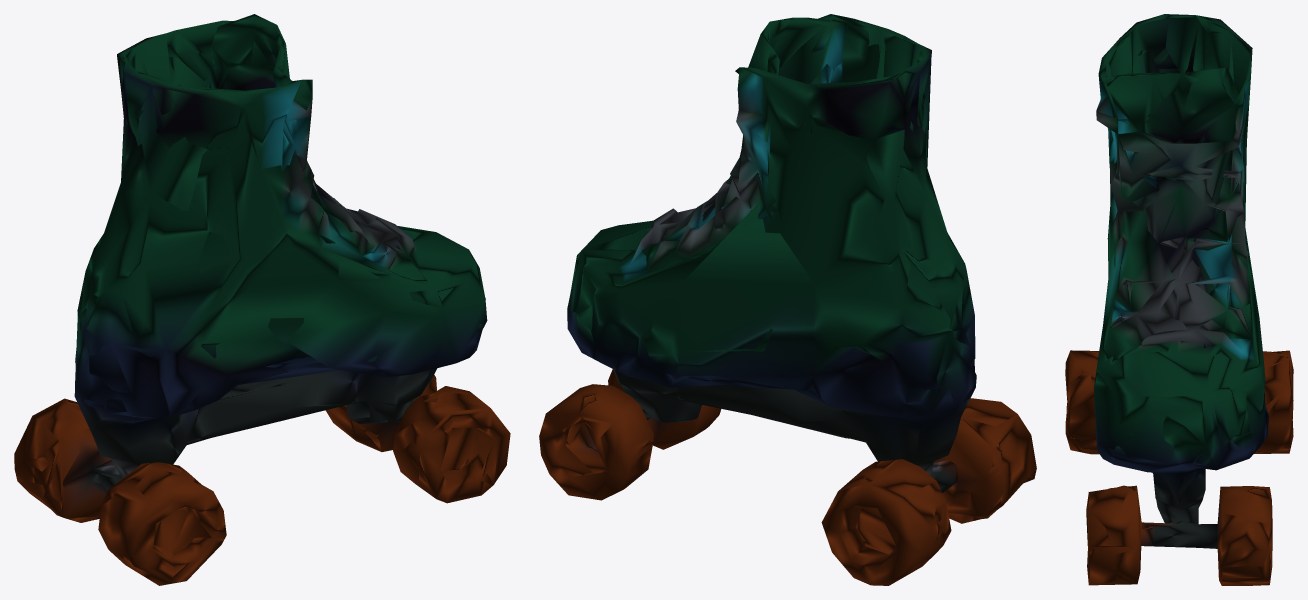
File: gen3d-roller-skate-lod0.glb
The picture shows the model from 3 angles, left to right: view 1: azimuth 30°, elevation 25°; view 2: azimuth 150°, elevation 25°; view 3: azimuth 270°, elevation 25°; orthographic projection. The views are drawn at different scales.
Visible parts, largest first — view 1: part_0; view 2: part_0; view 3: part_0.
Part boxes in pixels (x1,y1,x2,y2): part_0: (14,14,510,585); part_0: (539,14,1036,585); part_0: (1065,14,1293,585).
Size of the model in its own units: 0.8637 by 0.9985 by 0.4604.
